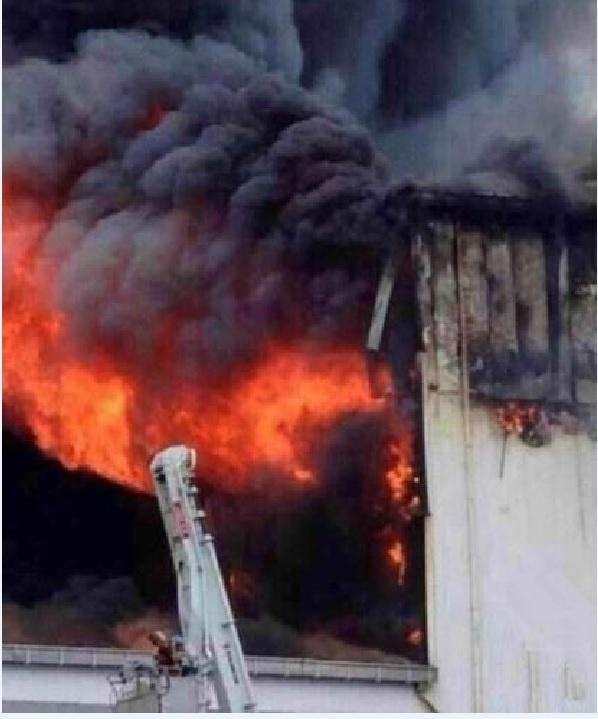fire: (14, 288, 407, 486)
